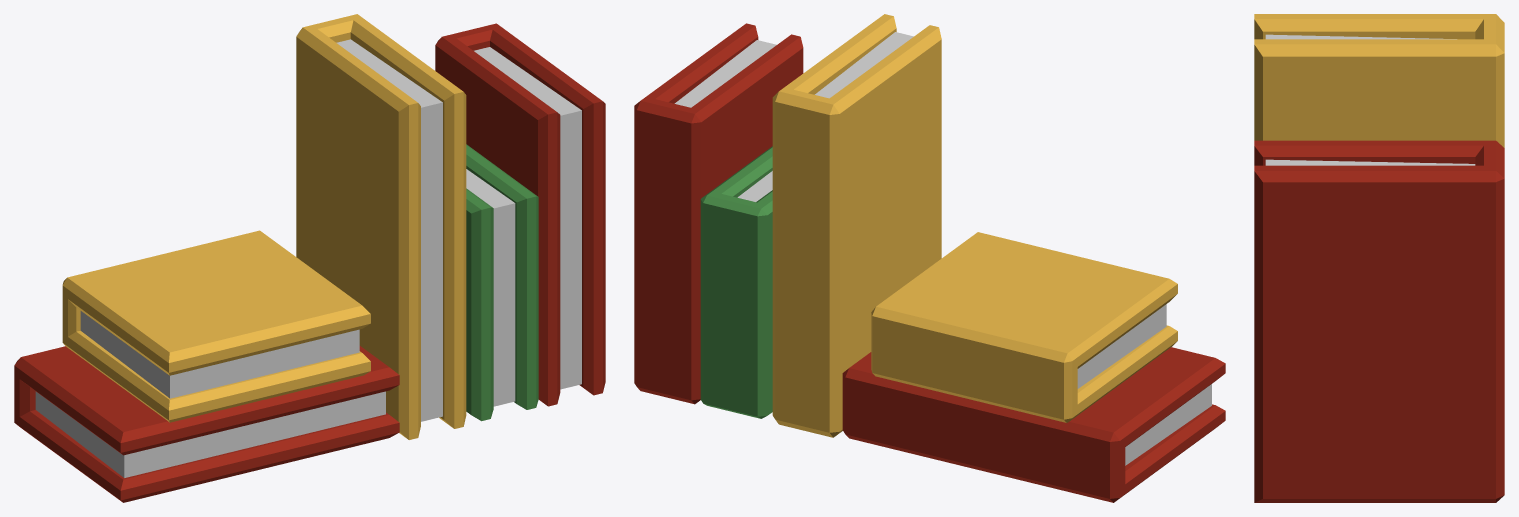
The model's file is Books B.glb.
The picture shows the model from 3 angles, left to right: view 1: azimuth 30°, elevation 25°; view 2: azimuth 150°, elevation 25°; view 3: azimuth 270°, elevation 25°; orthographic projection. The views are drawn at different scales.
Parts seen in each view (by area): view 1: Books B; view 2: Books B; view 3: Books B.
Part boxes in pixels (x1=…): Books B: x1=14, y1=14, x2=605, y2=502; Books B: x1=634, y1=14, x2=1225, y2=502; Books B: x1=1254, y1=14, x2=1504, y2=502.
Bounding box in the file's own units: 226 × 148 × 88.15.
